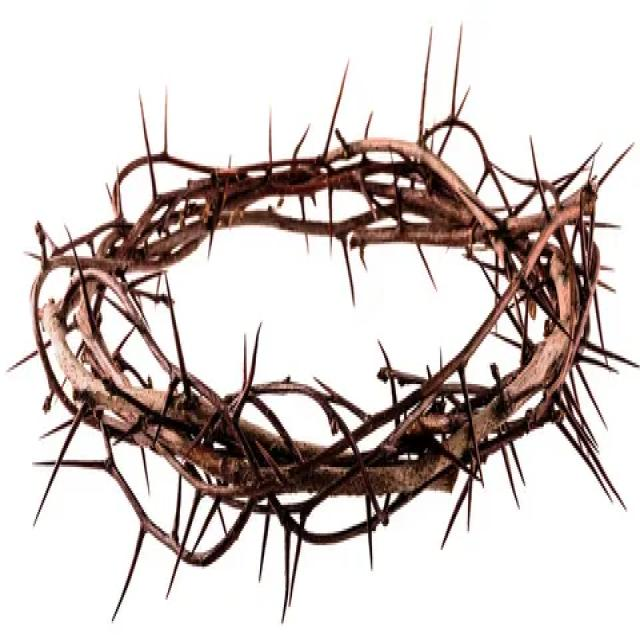crown: (11, 69, 622, 573)
